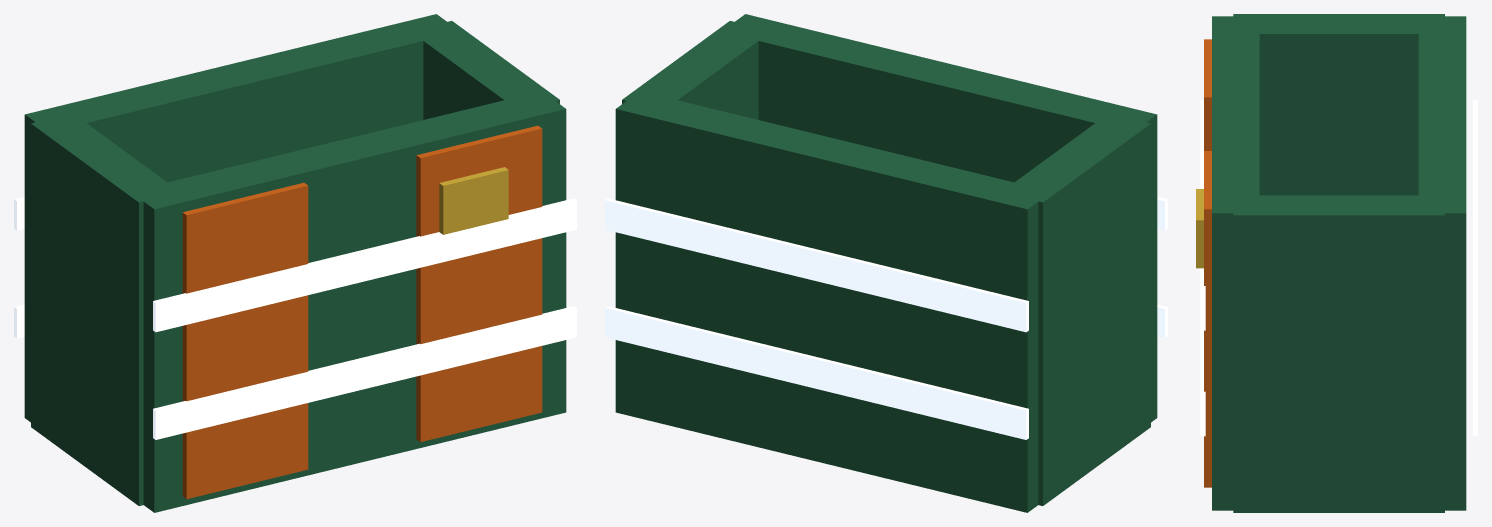
File: jacket_ranger.glb
3 renders of one model, left to right at view 1: azimuth 30°, elevation 25°; view 2: azimuth 150°, elevation 25°; view 3: azimuth 270°, elevation 25°, orthographic. The views are drawn at different scales.
Parts seen in each view (by area): view 1: jacket_ranger; view 2: jacket_ranger; view 3: jacket_ranger.
Part boxes in pixels (bbox=[...]): jacket_ranger: bbox=[14, 14, 576, 512]; jacket_ranger: bbox=[605, 14, 1167, 512]; jacket_ranger: bbox=[1196, 14, 1477, 512].
Size of the model in its own units: 0.9 by 0.62 by 0.532.
